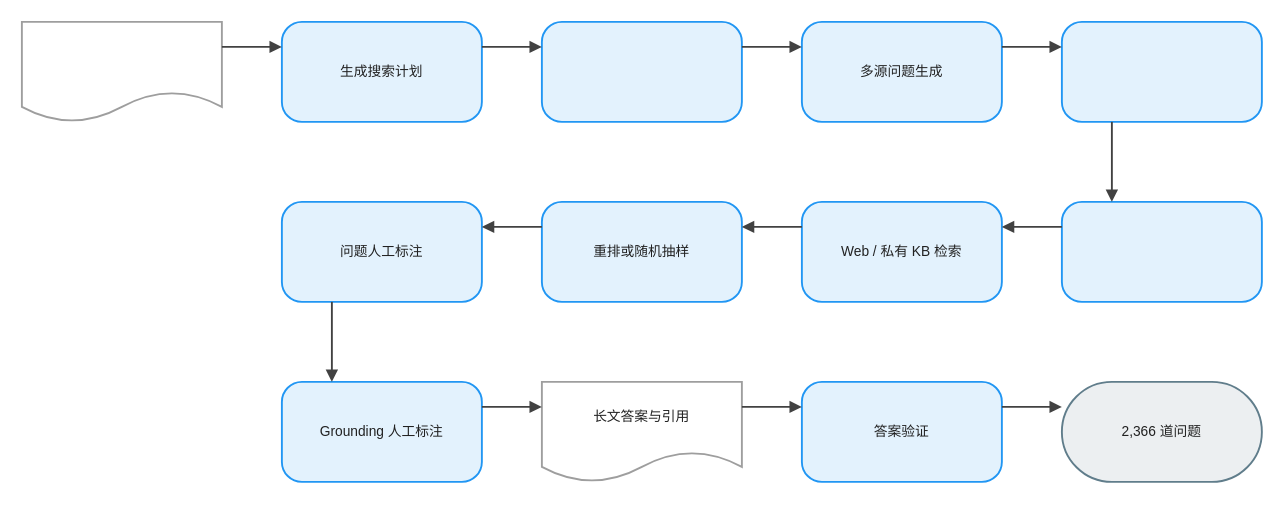
Image size: 1285x505. Some labels were removed from this diagram. The shapes that lost their labels are listed below. From the top down, each one's centre as x and y in pixels, then its label:
At (x=121, y=71): "种子主题".
At (x=641, y=71): "Web 搜索片段".
At (x=1161, y=71): "问题自动过滤".
At (x=1161, y=251): "问题分解".
